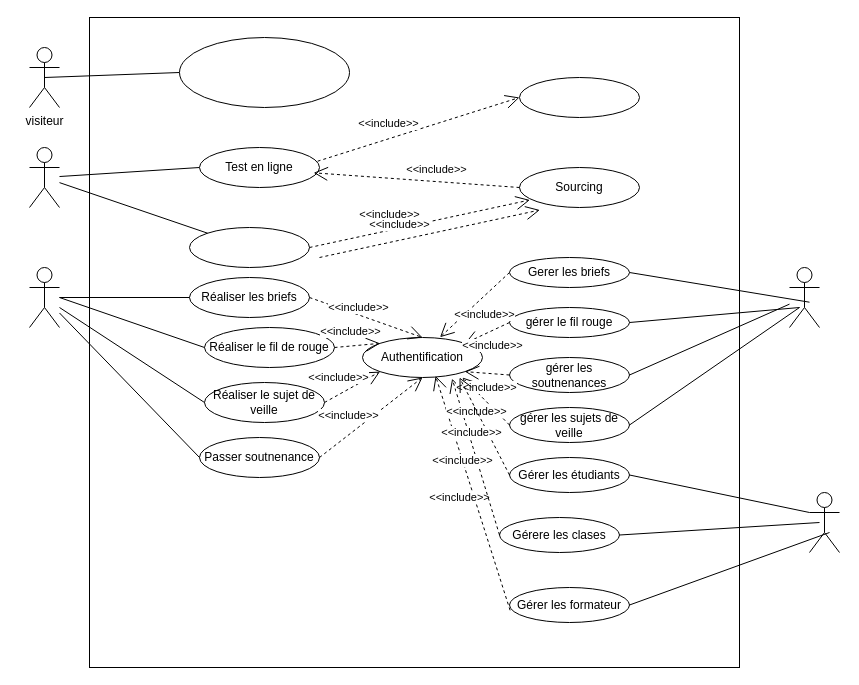
This 859x685 diagram has some shape labels left out. Here are the shapes that lost their labels. From the top down, the centre of each, then its label:
(264,72): naviguer dans le site web
(579,97): Register
(44,177): Candidat
(249,247): Sass
(44,297): Apprenant
(804,297): Formateur
(824,522): Admin
